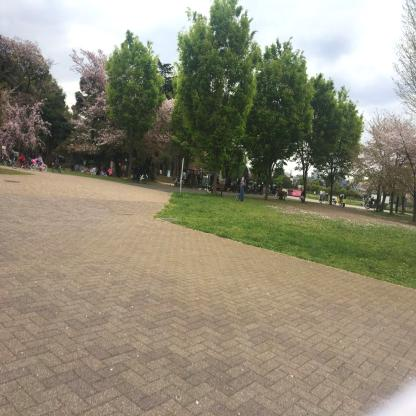Someiyoshino: (0, 29, 54, 159), (66, 43, 124, 158), (353, 95, 416, 200), (145, 95, 180, 149)
